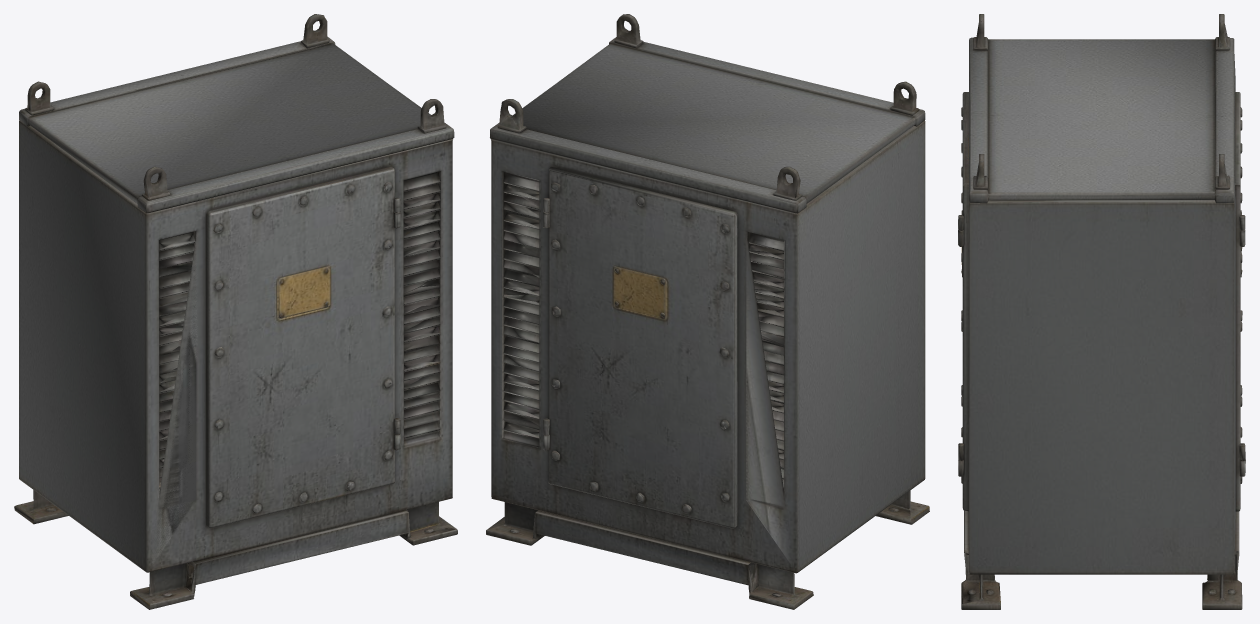
The model's file is p7-dry-transformer-t25.glb.
3 renders of one model, left to right at view 1: azimuth 30°, elevation 25°; view 2: azimuth 150°, elevation 25°; view 3: azimuth 270°, elevation 25°, orthographic. The views are drawn at different scales.
Parts seen in each view (by area): view 1: p7-dry-transformer-t25; view 2: p7-dry-transformer-t25; view 3: p7-dry-transformer-t25.
Part boxes in pixels (left/top/right/bottom): p7-dry-transformer-t25: left=14, top=14, right=457, bottom=609; p7-dry-transformer-t25: left=486, top=14, right=929, bottom=609; p7-dry-transformer-t25: left=958, top=14, right=1245, bottom=609.
Bounding box in the file's own units: 0.9 × 1.2 × 0.7.
Materials: 1 (1 with a texture image).
